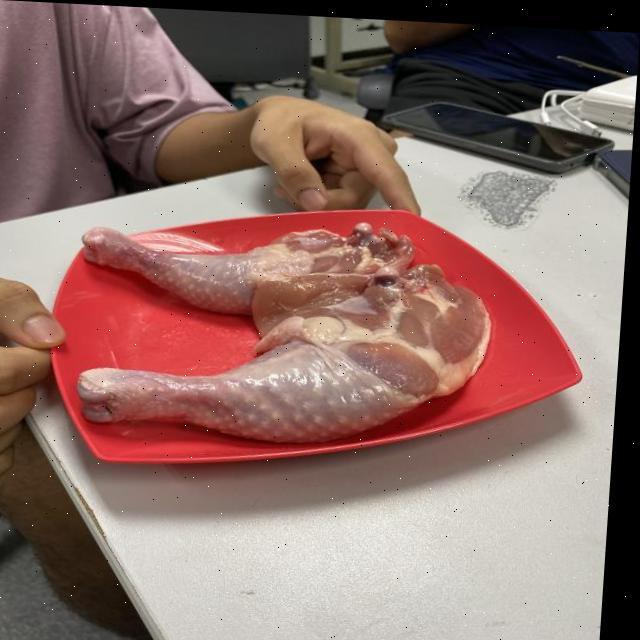quater: (84, 259, 504, 464), (56, 202, 422, 300)
